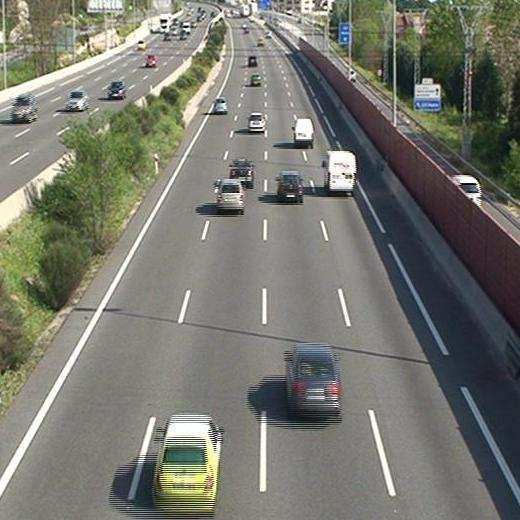car: (154, 416, 216, 507), (287, 345, 339, 413), (216, 181, 242, 211), (278, 172, 303, 201), (229, 160, 253, 185), (247, 112, 266, 132), (213, 97, 227, 113), (250, 74, 263, 85), (247, 56, 258, 67)
van: (325, 151, 355, 192), (294, 119, 314, 145)
